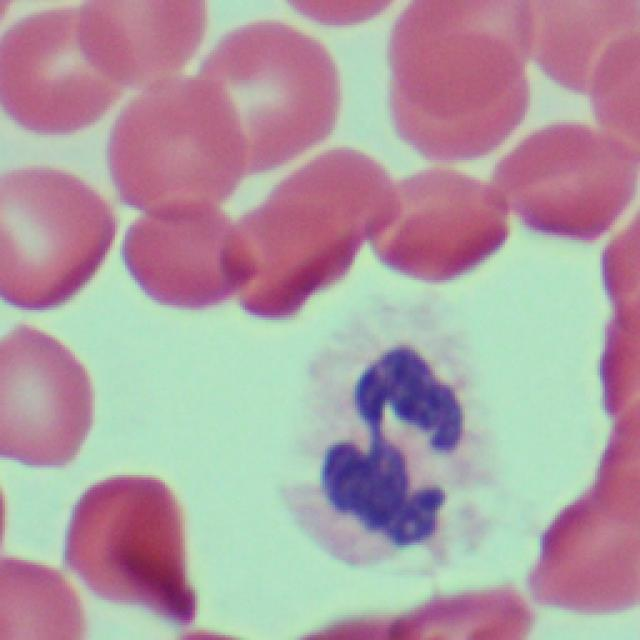RBC: (226, 137, 398, 320), (192, 29, 354, 174), (61, 479, 208, 623), (107, 83, 243, 223), (2, 158, 118, 315), (363, 150, 505, 278), (492, 135, 640, 257), (1, 1, 127, 144), (124, 194, 250, 324), (386, 0, 534, 109), (531, 482, 640, 629), (0, 314, 91, 470), (68, 0, 215, 96), (290, 588, 546, 640), (4, 547, 87, 640), (582, 230, 640, 314)
WBC: (290, 282, 498, 586)
